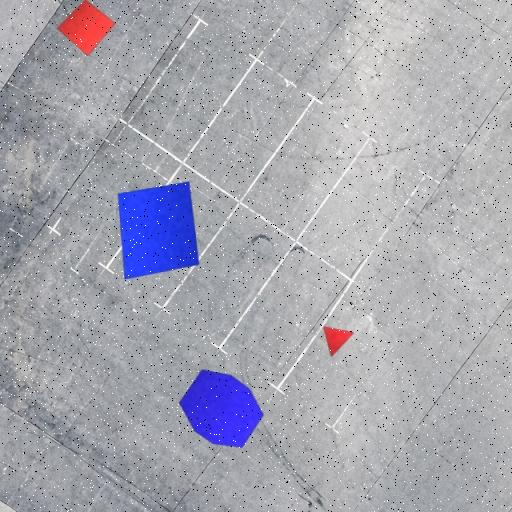BLUE_SQUARE: (117, 181, 200, 280)
RED_SQUARE: (56, 0, 116, 57)
